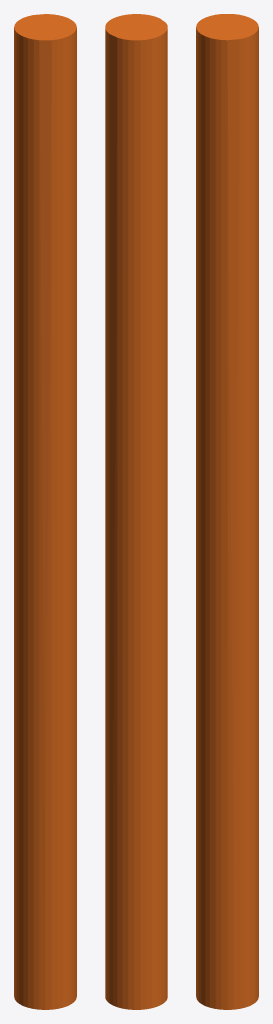
Rendered from seconds_stick_clock.dae.
3 views of the same model, side by side, from view 1: azimuth 90°, elevation 25°; view 2: azimuth 210°, elevation 25°; view 3: azimuth 270°, elevation 25° (orthographic).
Visible parts, largest first — view 1: Cylinder; view 2: Cylinder; view 3: Cylinder.
Boxes of the visible parts, <box> form: Cylinder: <box>14,14,76,1009</box>; Cylinder: <box>105,14,167,1009</box>; Cylinder: <box>196,14,258,1009</box>.
Size of the model in its own units: 1 by 1 by 17.06.
